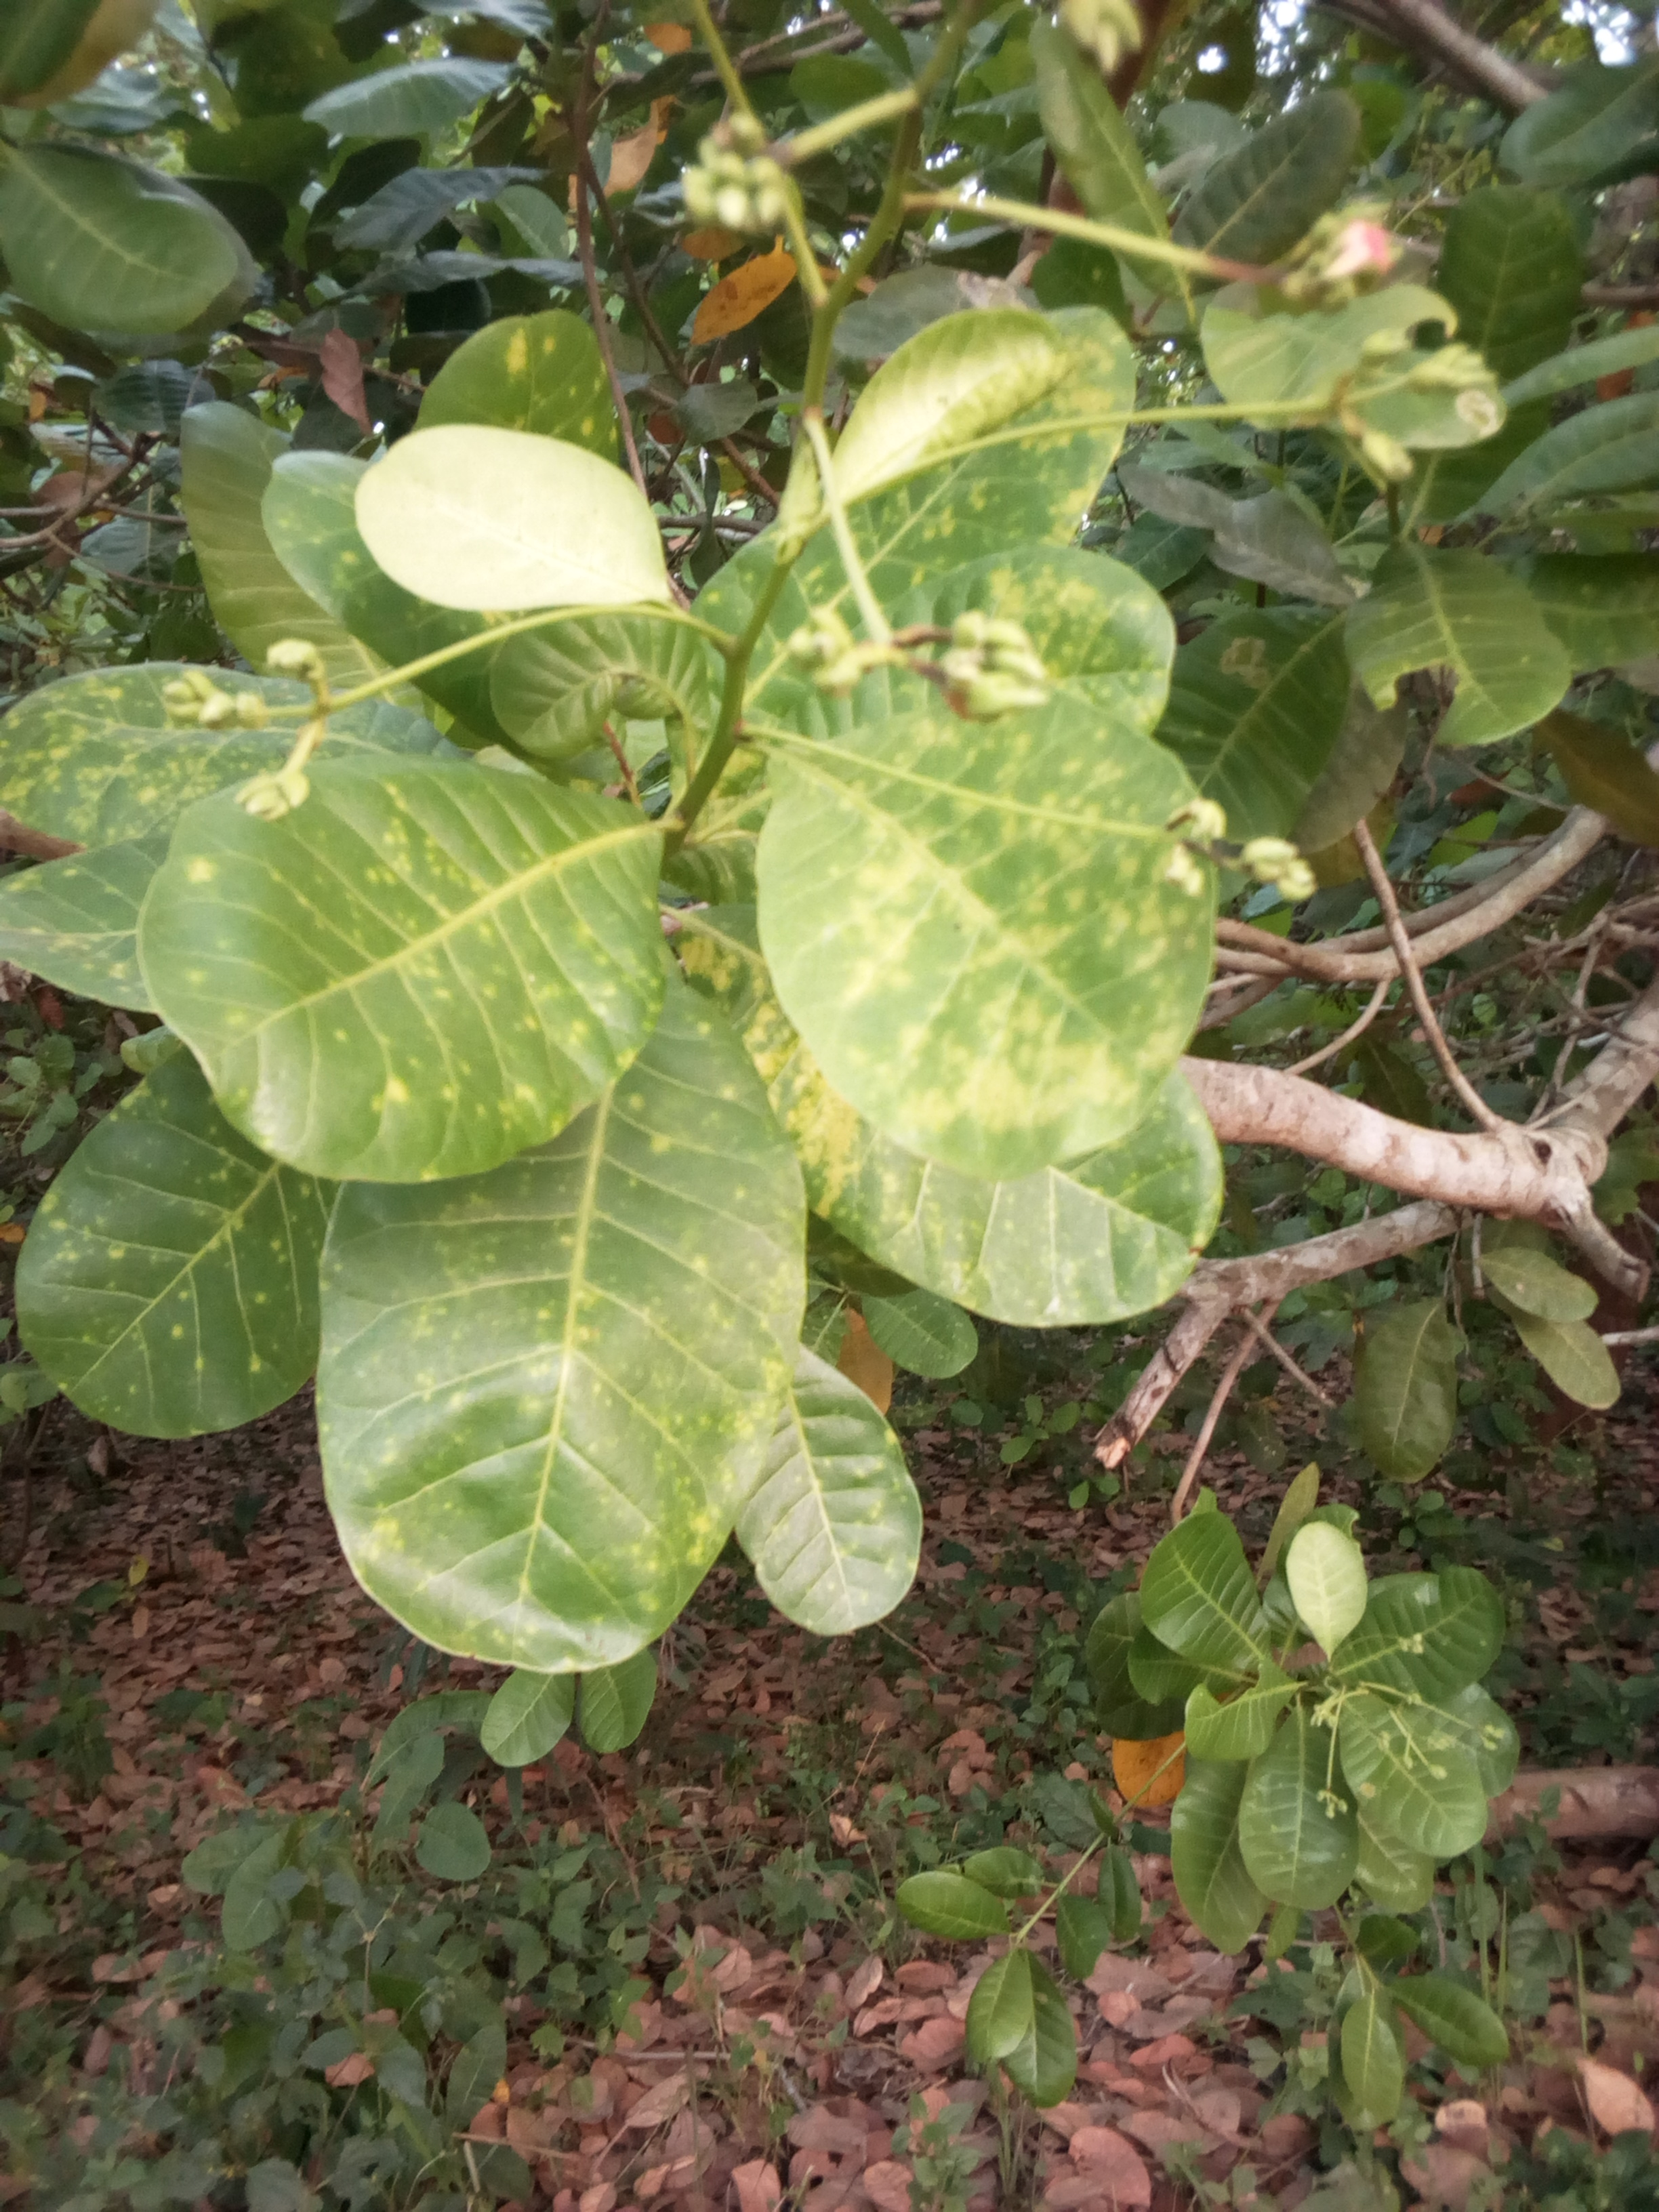Carence minérale: (281, 984, 840, 1693), (122, 761, 711, 1204), (0, 636, 528, 1075), (758, 716, 1236, 1188), (758, 998, 1263, 1329), (819, 300, 1171, 611), (392, 296, 664, 564)
